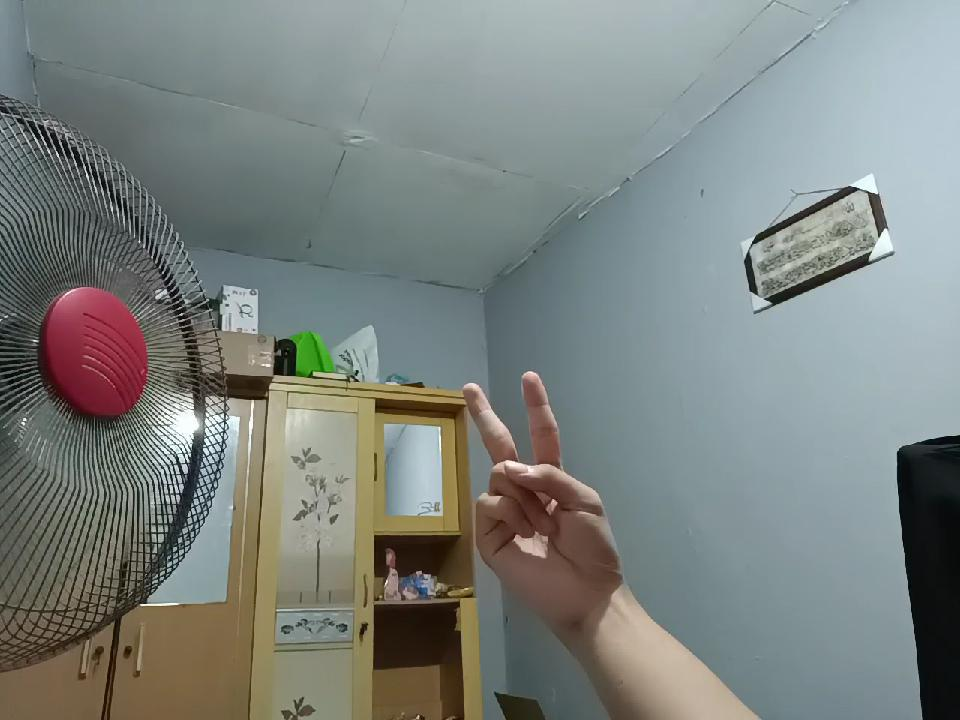scissors: (460, 364, 616, 598)
